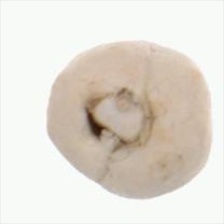L3: (82, 87, 154, 154)
L4: (46, 42, 211, 200)
